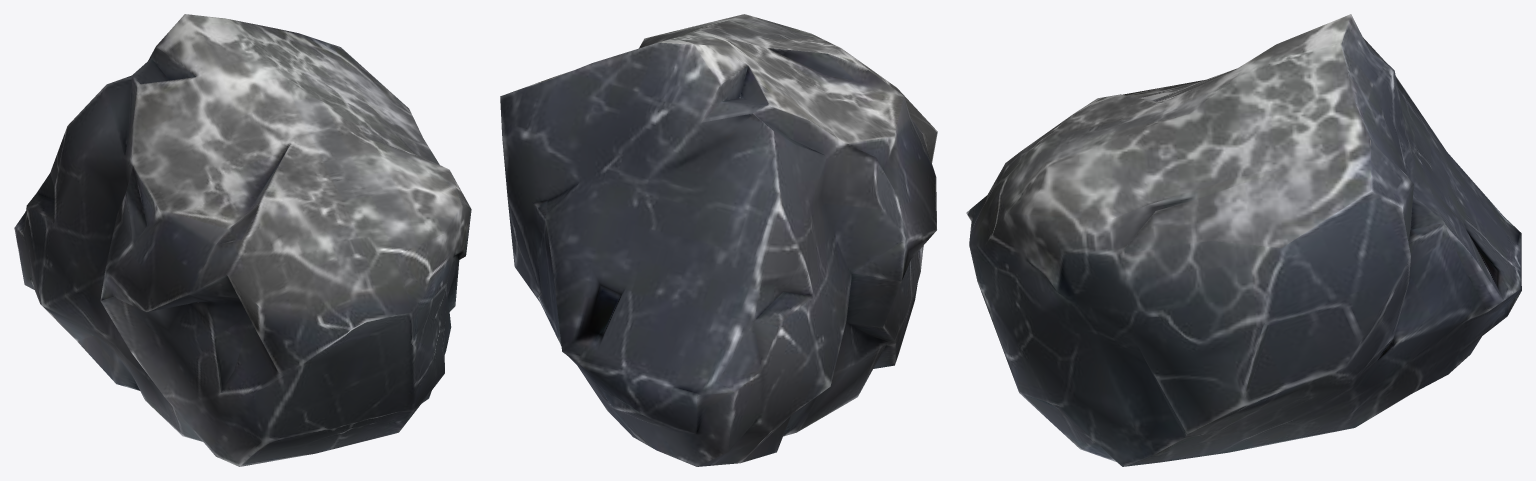
The model's file is rock-chunk-medium.glb.
3 renders of one model, left to right at view 1: azimuth 30°, elevation 25°; view 2: azimuth 150°, elevation 25°; view 3: azimuth 270°, elevation 25°, orthographic. The views are drawn at different scales.
Size of the model in its own units: 1.59 by 1.56 by 2.02.
1 material, 1 textured.
